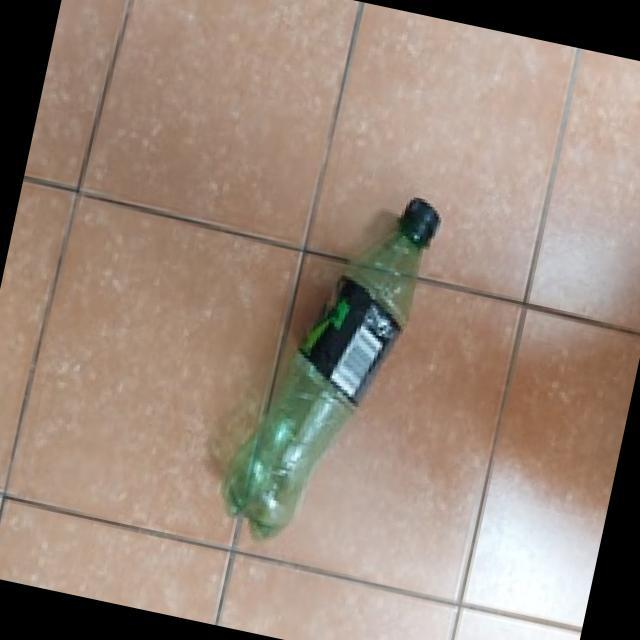good: (198, 158, 461, 572)
